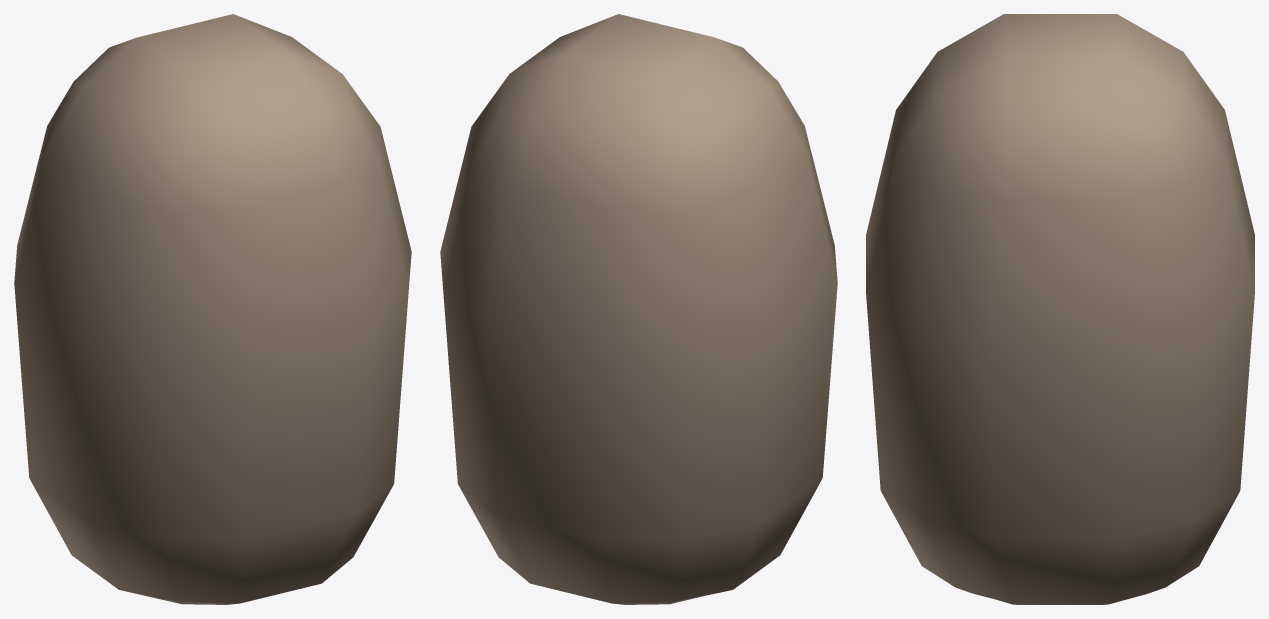
Rendered from Rock_6_C_Color3.fbx.
3 views of the same model, side by side, from view 1: azimuth 30°, elevation 25°; view 2: azimuth 150°, elevation 25°; view 3: azimuth 270°, elevation 25° (orthographic). The views are drawn at different scales.
Parts seen in each view (by area): view 1: Rock_6_C_Color3; view 2: Rock_6_C_Color3; view 3: Rock_6_C_Color3.
Boxes of the visible parts, x1,y1,x2,y2 form: Rock_6_C_Color3: [14, 14, 411, 604]; Rock_6_C_Color3: [440, 14, 837, 604]; Rock_6_C_Color3: [866, 14, 1254, 604].
Bounding box in the file's own units: 0.6495 × 0.9797 × 0.6495.
